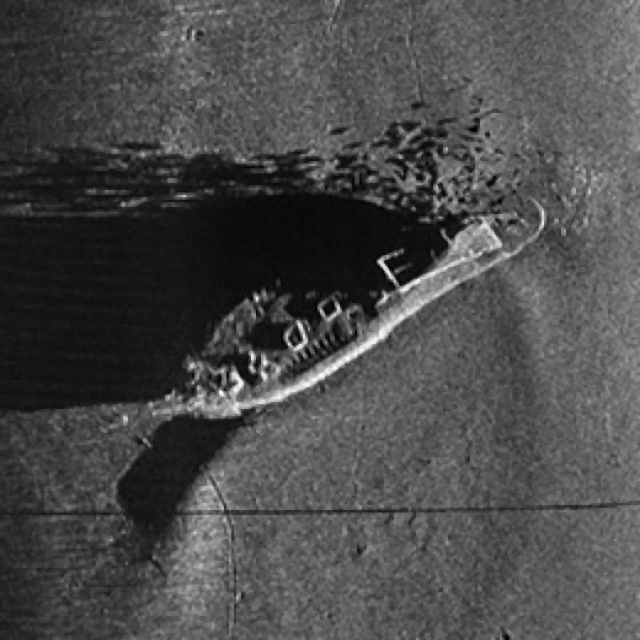Ship: (136, 164, 559, 450)
